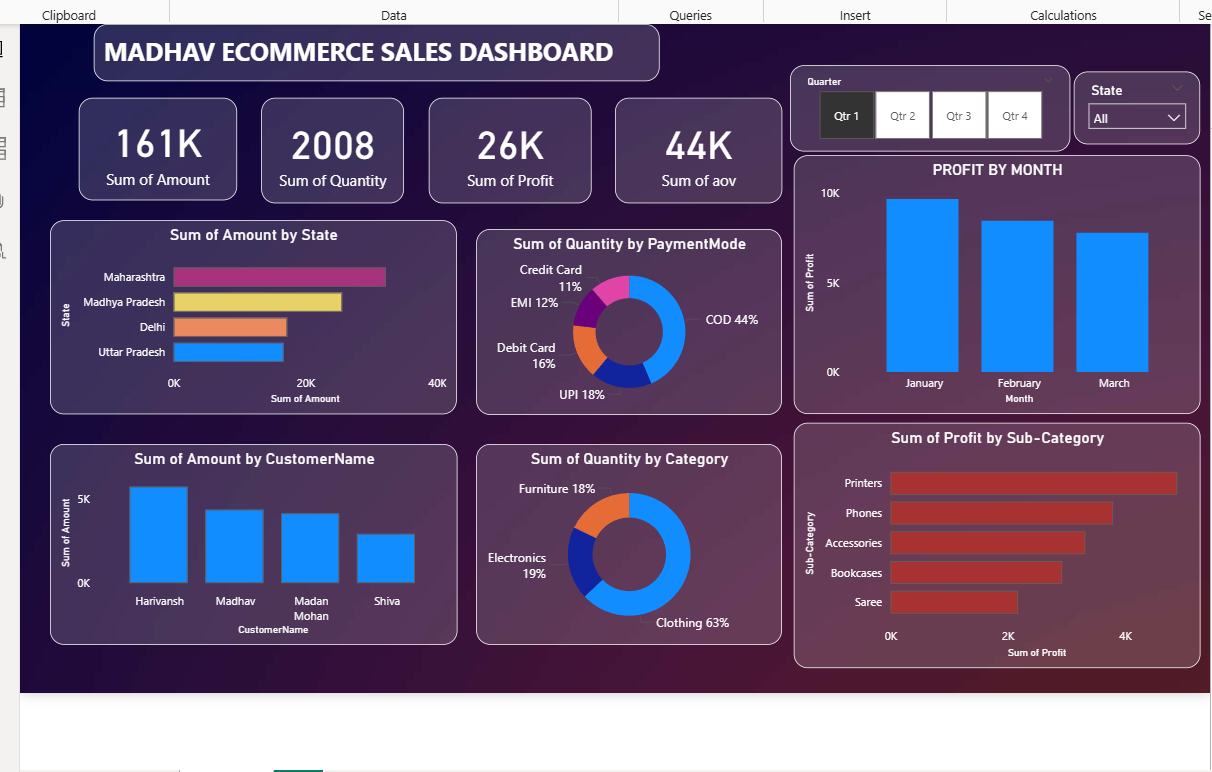

The page's visual inventory and layout, read from the dashboard file:
{"tool":"powerbi","page":{"name":"Page 1","canvas":[1280,720],"ordinal":0},"visuals":[{"type":"textbox","box":[80,0,608.8,61.2],"z":0},{"type":"columnChart","title":"PROFIT BY MONTH ","fields":{"Category":["Orders.Order Date.Variation.Date Hierarchy.Month"],"Y":["Sum(Details.Profit)"]},"box":[832.5,141.2,437.5,278.8],"z":1000},{"type":"barChart","fields":{"Category":["Details.Sub-Category"],"Y":["Sum(Details.Profit)"]},"box":[832.5,428.8,437.5,263.8],"z":2000},{"type":"donutChart","fields":{"Category":["Details.Category"],"Y":["Sum(Details.Quantity)"]},"box":[491.2,452.5,328.8,216.2],"z":3000},{"type":"donutChart","fields":{"Category":["Details.PaymentMode","Details.Category"],"Y":["Sum(Details.Quantity)"]},"box":[491.2,220,328.8,200],"z":4000},{"type":"card","fields":{"Values":["Sum(Details.Amount)"]},"box":[63.8,78.8,170,110],"z":5000},{"type":"card","fields":{"Values":["Sum(Details.Quantity)"]},"box":[260,78.8,153.8,113.8],"z":6000},{"type":"card","fields":{"Values":["Sum(Details.Profit)"]},"box":[440,80,175,113.8],"z":7000},{"type":"card","fields":{"Values":["Sum(Details.aov)"]},"box":[640,78.8,180,113.8],"z":8000},{"type":"barChart","fields":{"Category":["Orders.State"],"Y":["Sum(Details.Amount)"]},"box":[32.5,211.2,437.5,208.8],"z":9000},{"type":"columnChart","fields":{"Category":["Orders.CustomerName"],"Y":["Sum(Details.Amount)"]},"box":[32.5,452.5,438.8,216.2],"z":10000},{"type":"slicer","fields":{"Values":["Orders.Order Date.Variation.Date Hierarchy.Quarter"]},"box":[828.8,43.8,301.2,92.5],"z":11000},{"type":"slicer","fields":{"Values":["Orders.State"]},"box":[1133.8,51.2,136.2,78.8],"z":11001}]}

Visuals, with their boxes in screenshot pixels (x1, y1, x2, y2):
textbox: {"left": 90, "top": 19, "right": 659, "bottom": 76}
"PROFIT BY MONTH " columnChart: {"left": 793, "top": 151, "right": 1202, "bottom": 411}
barChart - Details.Sub-Category x Sum(Details.Profit): {"left": 793, "top": 419, "right": 1202, "bottom": 666}
donutChart - Details.Category x Sum(Details.Quantity): {"left": 474, "top": 441, "right": 781, "bottom": 643}
donutChart - Details.PaymentMode x Details.Category: {"left": 474, "top": 224, "right": 781, "bottom": 411}
card - Sum(Details.Amount): {"left": 75, "top": 93, "right": 234, "bottom": 195}
card - Sum(Details.Quantity): {"left": 259, "top": 93, "right": 402, "bottom": 199}
card - Sum(Details.Profit): {"left": 427, "top": 94, "right": 590, "bottom": 200}
card - Sum(Details.aov): {"left": 613, "top": 93, "right": 781, "bottom": 199}
barChart - Orders.State x Sum(Details.Amount): {"left": 46, "top": 216, "right": 455, "bottom": 411}
columnChart - Orders.CustomerName x Sum(Details.Amount): {"left": 46, "top": 441, "right": 456, "bottom": 643}
slicer - Orders.Order Date.Variation.Date Hierarchy.Quarter: {"left": 790, "top": 60, "right": 1071, "bottom": 146}
slicer - Orders.State: {"left": 1075, "top": 67, "right": 1202, "bottom": 140}
